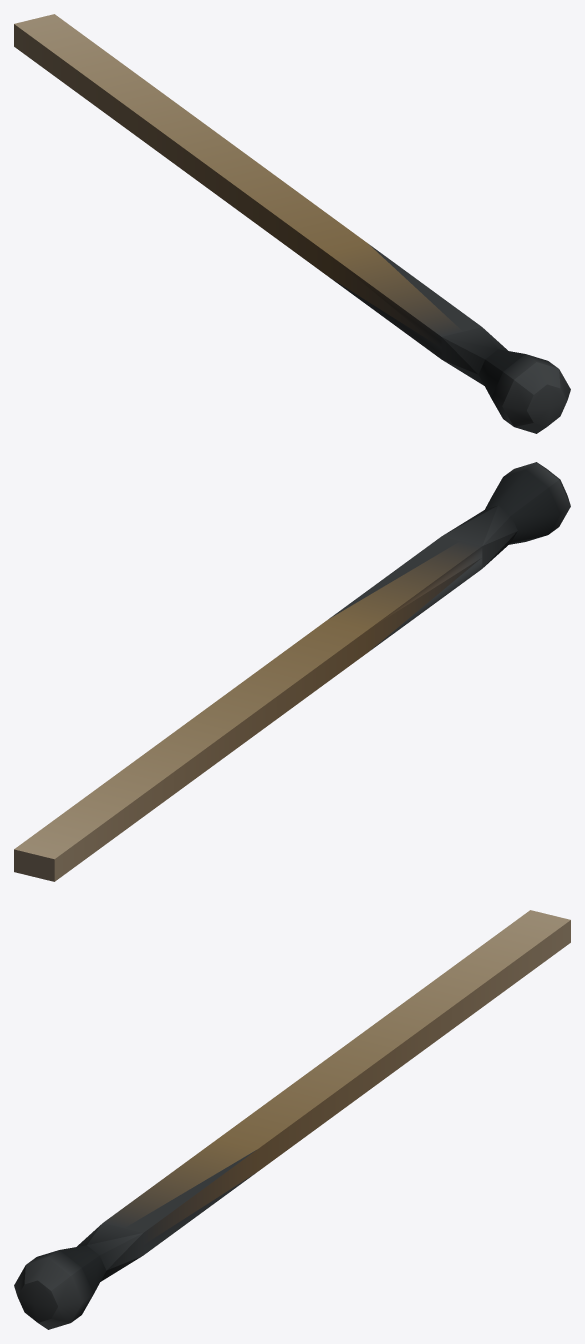
Rendered from human-household-items-match_v1.glb.
3 views of the same model, one above another, from view 1: azimuth 30°, elevation 25°; view 2: azimuth 150°, elevation 25°; view 3: azimuth 330°, elevation 25° (orthographic).
Parts seen in each view (by area): view 1: Match_v1; view 2: Match_v1; view 3: Match_v1.
Boxes of the visible parts, box(x1,y1,x2,y2) form: Match_v1: box(14, 14, 570, 433); Match_v1: box(14, 462, 570, 881); Match_v1: box(14, 910, 570, 1329).
Size of the model in its own units: 0.00384 by 0.00384 by 0.05.
